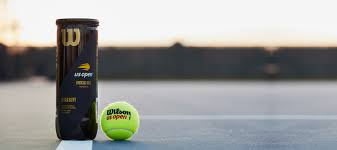tennis_ball: (99, 100, 141, 142)
